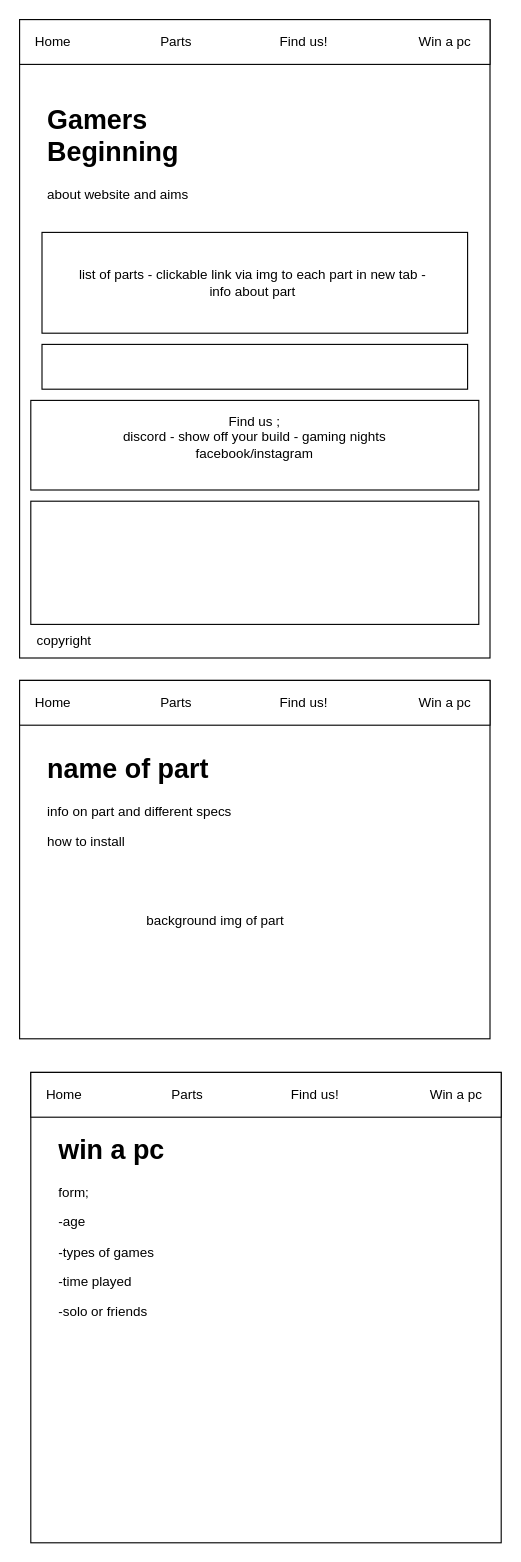
Image size: 521x1562. Some labels were removed from this diagram. Here are the shapes that lost their labels. From the top down, the centre of each, then its label:
(x=254, y=366): parts picker and tips for picking parts
(x=254, y=562): Feedback form / ask us a question about pcs
